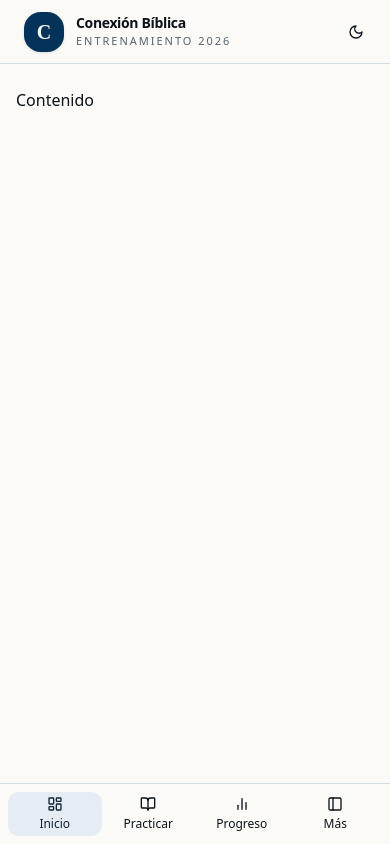
Scenario: AppShell › ofrece las áreas secundarias desde Más en móvil
This screenshot has width=390, height=844.
Click the button "Más" at [335, 814], box left=288, top=792, right=382, bottom=836
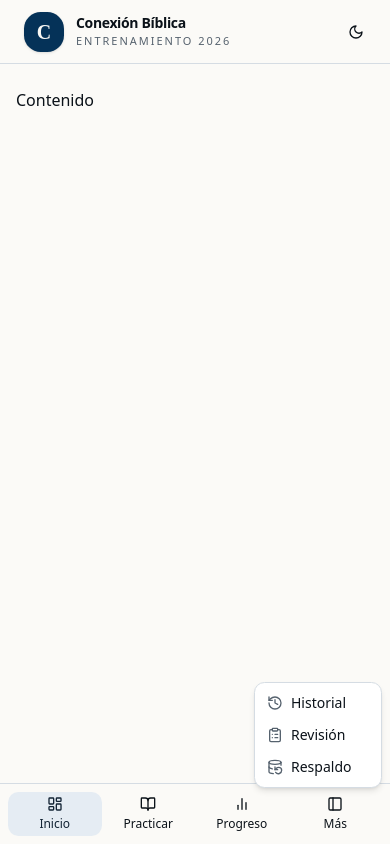
Check: the menu item "Historial" is shown, box left=267, top=693, right=346, bottom=712
Check: the menu item "Revisión" is shown, box left=267, top=725, right=346, bottom=744
Check: the menu item "Respaldo" is shown, box left=267, top=757, right=352, bottom=776
